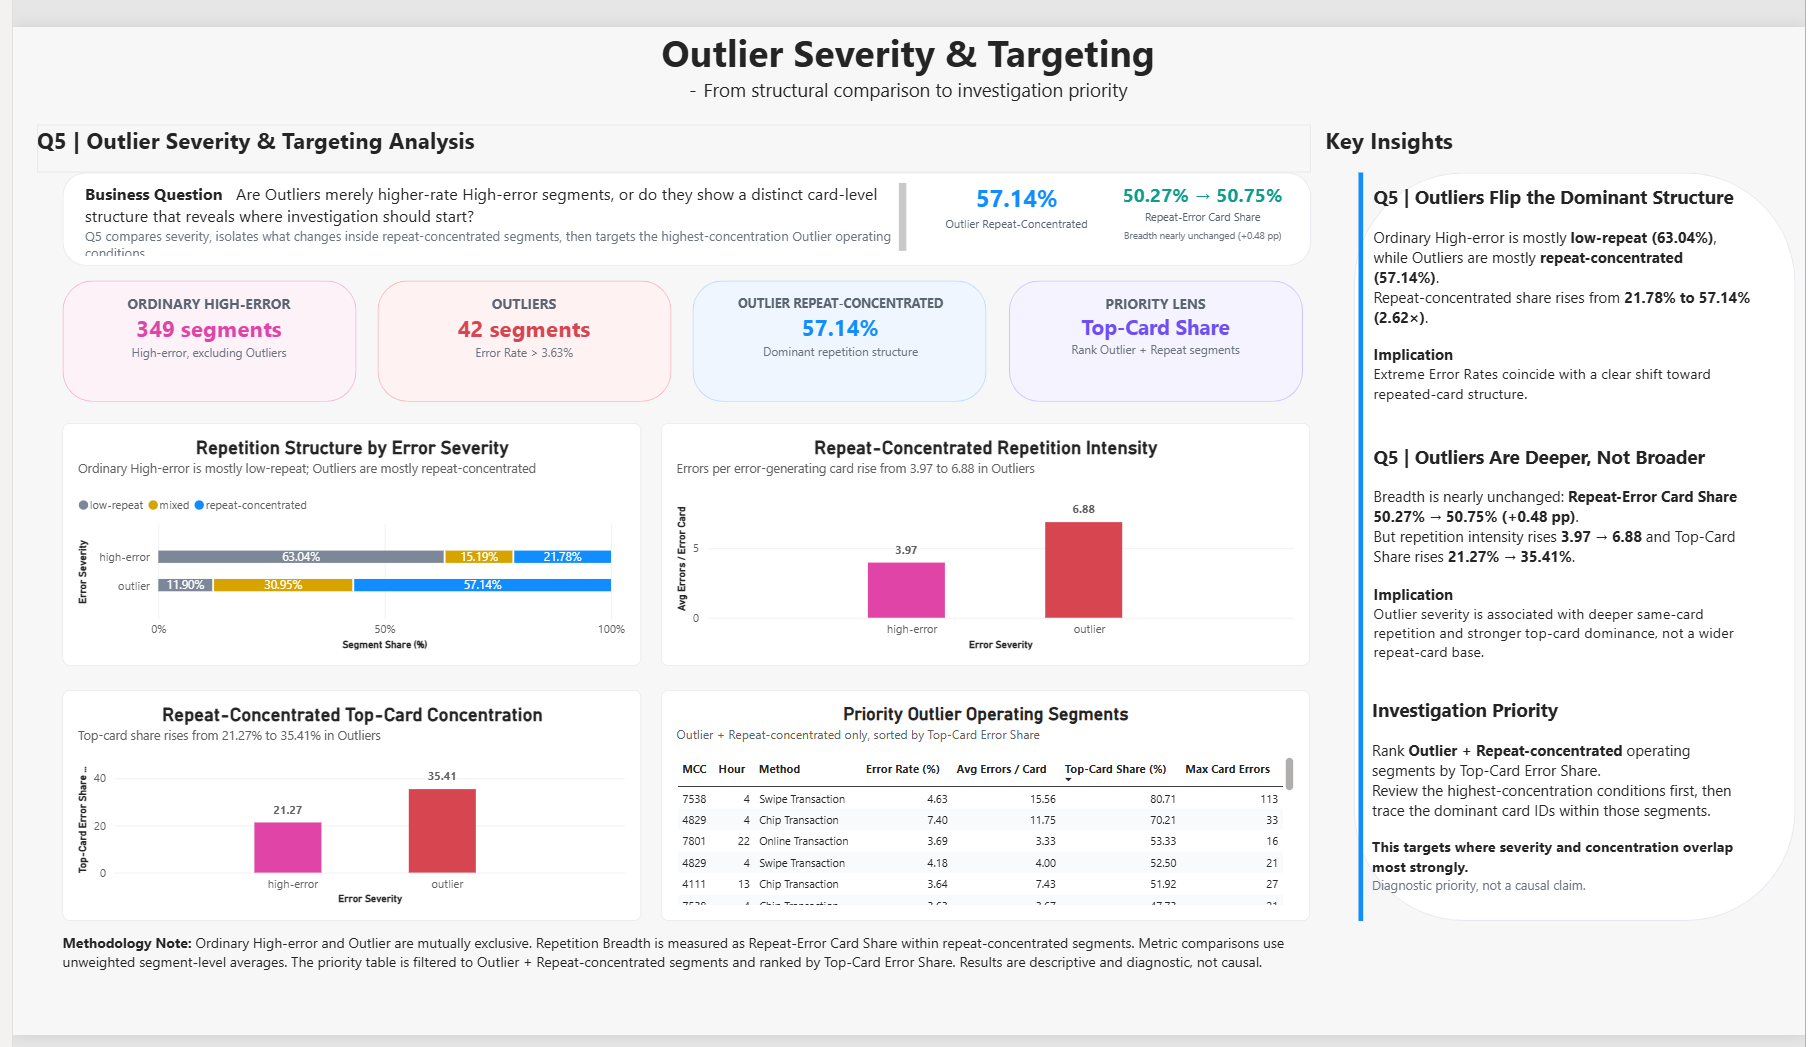

The page's visual inventory and layout, read from the dashboard file:
{"tool":"powerbi","page":{"name":"05 Outlier Severity & Targeting","canvas":[1920,1080],"ordinal":4},"visuals":[{"type":"textbox","box":[521.5,0,877,113],"z":6000},{"type":"textbox","box":[25.4,104.4,1365.1,52.2],"z":6100},{"type":"shape","box":[53,146.7,1337.7,108.5],"z":6200},{"type":"textbox","box":[76.4,155.3,880.3,90],"z":6250},{"type":"textbox","box":[980,166,190,78],"z":6260},{"type":"textbox","box":[1180,166,190,78],"z":6270},{"type":"shape","box":[52.9,272.2,315,115.9],"z":6300},{"type":"shape","box":[390.6,272.2,315,115.9],"z":6301},{"type":"shape","box":[728.4,272.2,315,115.9],"z":6302},{"type":"shape","box":[1066.1,272.2,315,115.9],"z":6303},{"type":"textbox","box":[67.6,286,285,102],"z":6350},{"type":"textbox","box":[405.6,286,285,102],"z":6360},{"type":"textbox","box":[743.6,286,285,102],"z":6370},{"type":"textbox","box":[1081.6,286,285,102],"z":6380},{"type":"shape","box":[1436,156.6,473,802],"z":6800},{"type":"shape","box":[1441.3,156.6,5,802],"z":6810},{"type":"textbox","box":[1405.8,104.2,473,51.7],"z":6820},{"type":"textbox","box":[1457.7,167.9,405.2,257],"z":6830},{"type":"textbox","box":[1458,447.3,404.5,262.1],"z":6840},{"type":"textbox","box":[1456.5,718.9,405.3,230.6],"z":6850},{"type":"hundredPercentStackedBarChart","title":"Repetition Structure by Error Severity","fields":{"Category":["Q5 Severity Comparison.Severity Display"],"Series":["Q5 Severity Comparison.card_repetition_level"],"Y":["Sum(Q5 Severity Comparison.segment_count)"]},"box":[52.9,412.1,620,272.2],"z":7000},{"type":"clusteredColumnChart","title":"Repeat-Concentrated Repetition Intensity","fields":{"Category":["Q5 Severity Comparison.Severity Display"],"Y":["Avg(Q5 Severity Comparison.avg_errors_per_error_card)"]},"box":[695.6,412.1,694.3,272.2],"z":7010},{"type":"clusteredColumnChart","title":"Repeat-Concentrated Top-Card Concentration","fields":{"Category":["Q5 Severity Comparison.Severity Display"],"Y":["Avg(Q5 Severity Comparison.avg_top_card_error_share_pct)"]},"box":[52.6,710,620,247],"z":7020},{"type":"tableEx","title":"Priority Outlier Operating Segments","fields":{"Values":["Q4 Segment Analysis.mcc","Q4 Segment Analysis.hour_of_day","Q4 Segment Analysis.use_chip","Q4 Segment Analysis.error_rate_pct","Q4 Segment Analysis.avg_errors_per_error_card","Q4 Segment Analysis.top_card_error_share_pct","Q4 Segment Analysis.max_card_error_count"]},"box":[695,710,695,247],"z":7030},{"type":"textbox","box":[52.9,970.3,1337,92],"z":7300}]}

Visuals, with their boxes in screenshot pixels (x1, y1, x2, y2), scaled from the page's 1920x1080 canvas onto the 1815x1047 screenshot:
textbox: region(493, 0, 1322, 110)
textbox: region(24, 101, 1314, 152)
shape: region(50, 142, 1315, 247)
textbox: region(72, 151, 904, 238)
textbox: region(926, 161, 1106, 237)
textbox: region(1115, 161, 1295, 237)
shape: region(50, 264, 348, 376)
shape: region(369, 264, 667, 376)
shape: region(689, 264, 986, 376)
shape: region(1008, 264, 1306, 376)
textbox: region(64, 277, 333, 376)
textbox: region(383, 277, 653, 376)
textbox: region(703, 277, 972, 376)
textbox: region(1022, 277, 1292, 376)
shape: region(1357, 152, 1805, 929)
shape: region(1362, 152, 1367, 929)
textbox: region(1329, 101, 1776, 151)
textbox: region(1378, 163, 1761, 412)
textbox: region(1378, 434, 1761, 688)
textbox: region(1377, 697, 1760, 920)
"Repetition Structure by Error Severity" hundredPercentStackedBarChart: region(50, 400, 636, 663)
"Repeat-Concentrated Repetition Intensity" clusteredColumnChart: region(658, 400, 1314, 663)
"Repeat-Concentrated Top-Card Concentration" clusteredColumnChart: region(50, 688, 636, 928)
"Priority Outlier Operating Segments" tableEx: region(657, 688, 1314, 928)
textbox: region(50, 941, 1314, 1030)
